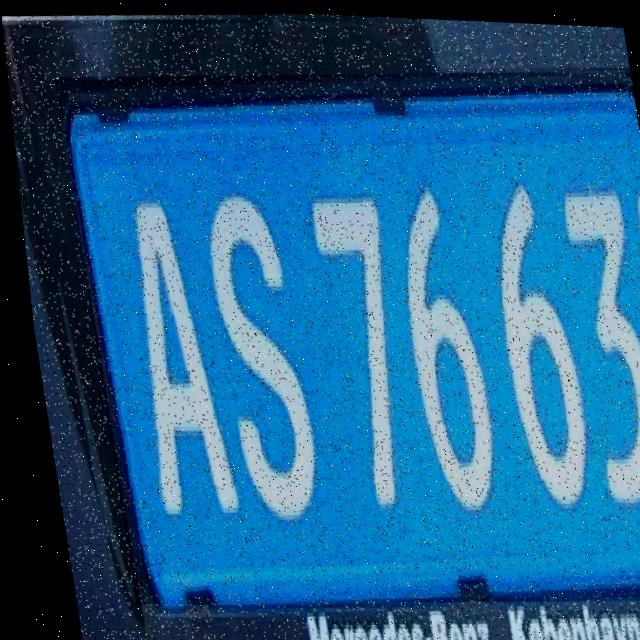LicensePlate: (50, 46, 640, 623)
